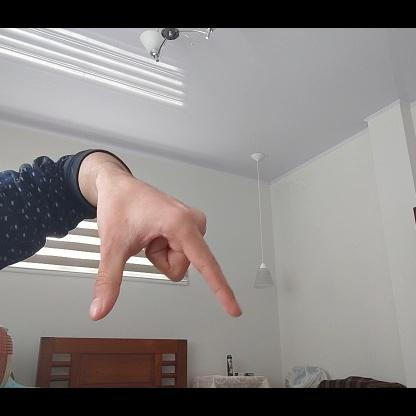Q: (88, 179, 245, 318)
